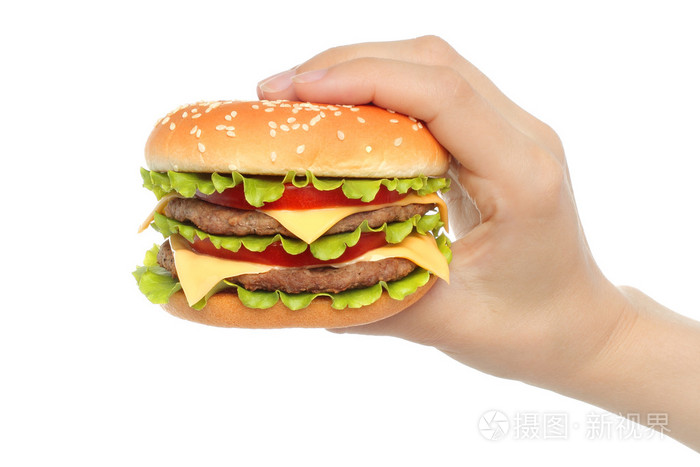no-phone: (131, 32, 642, 401)
